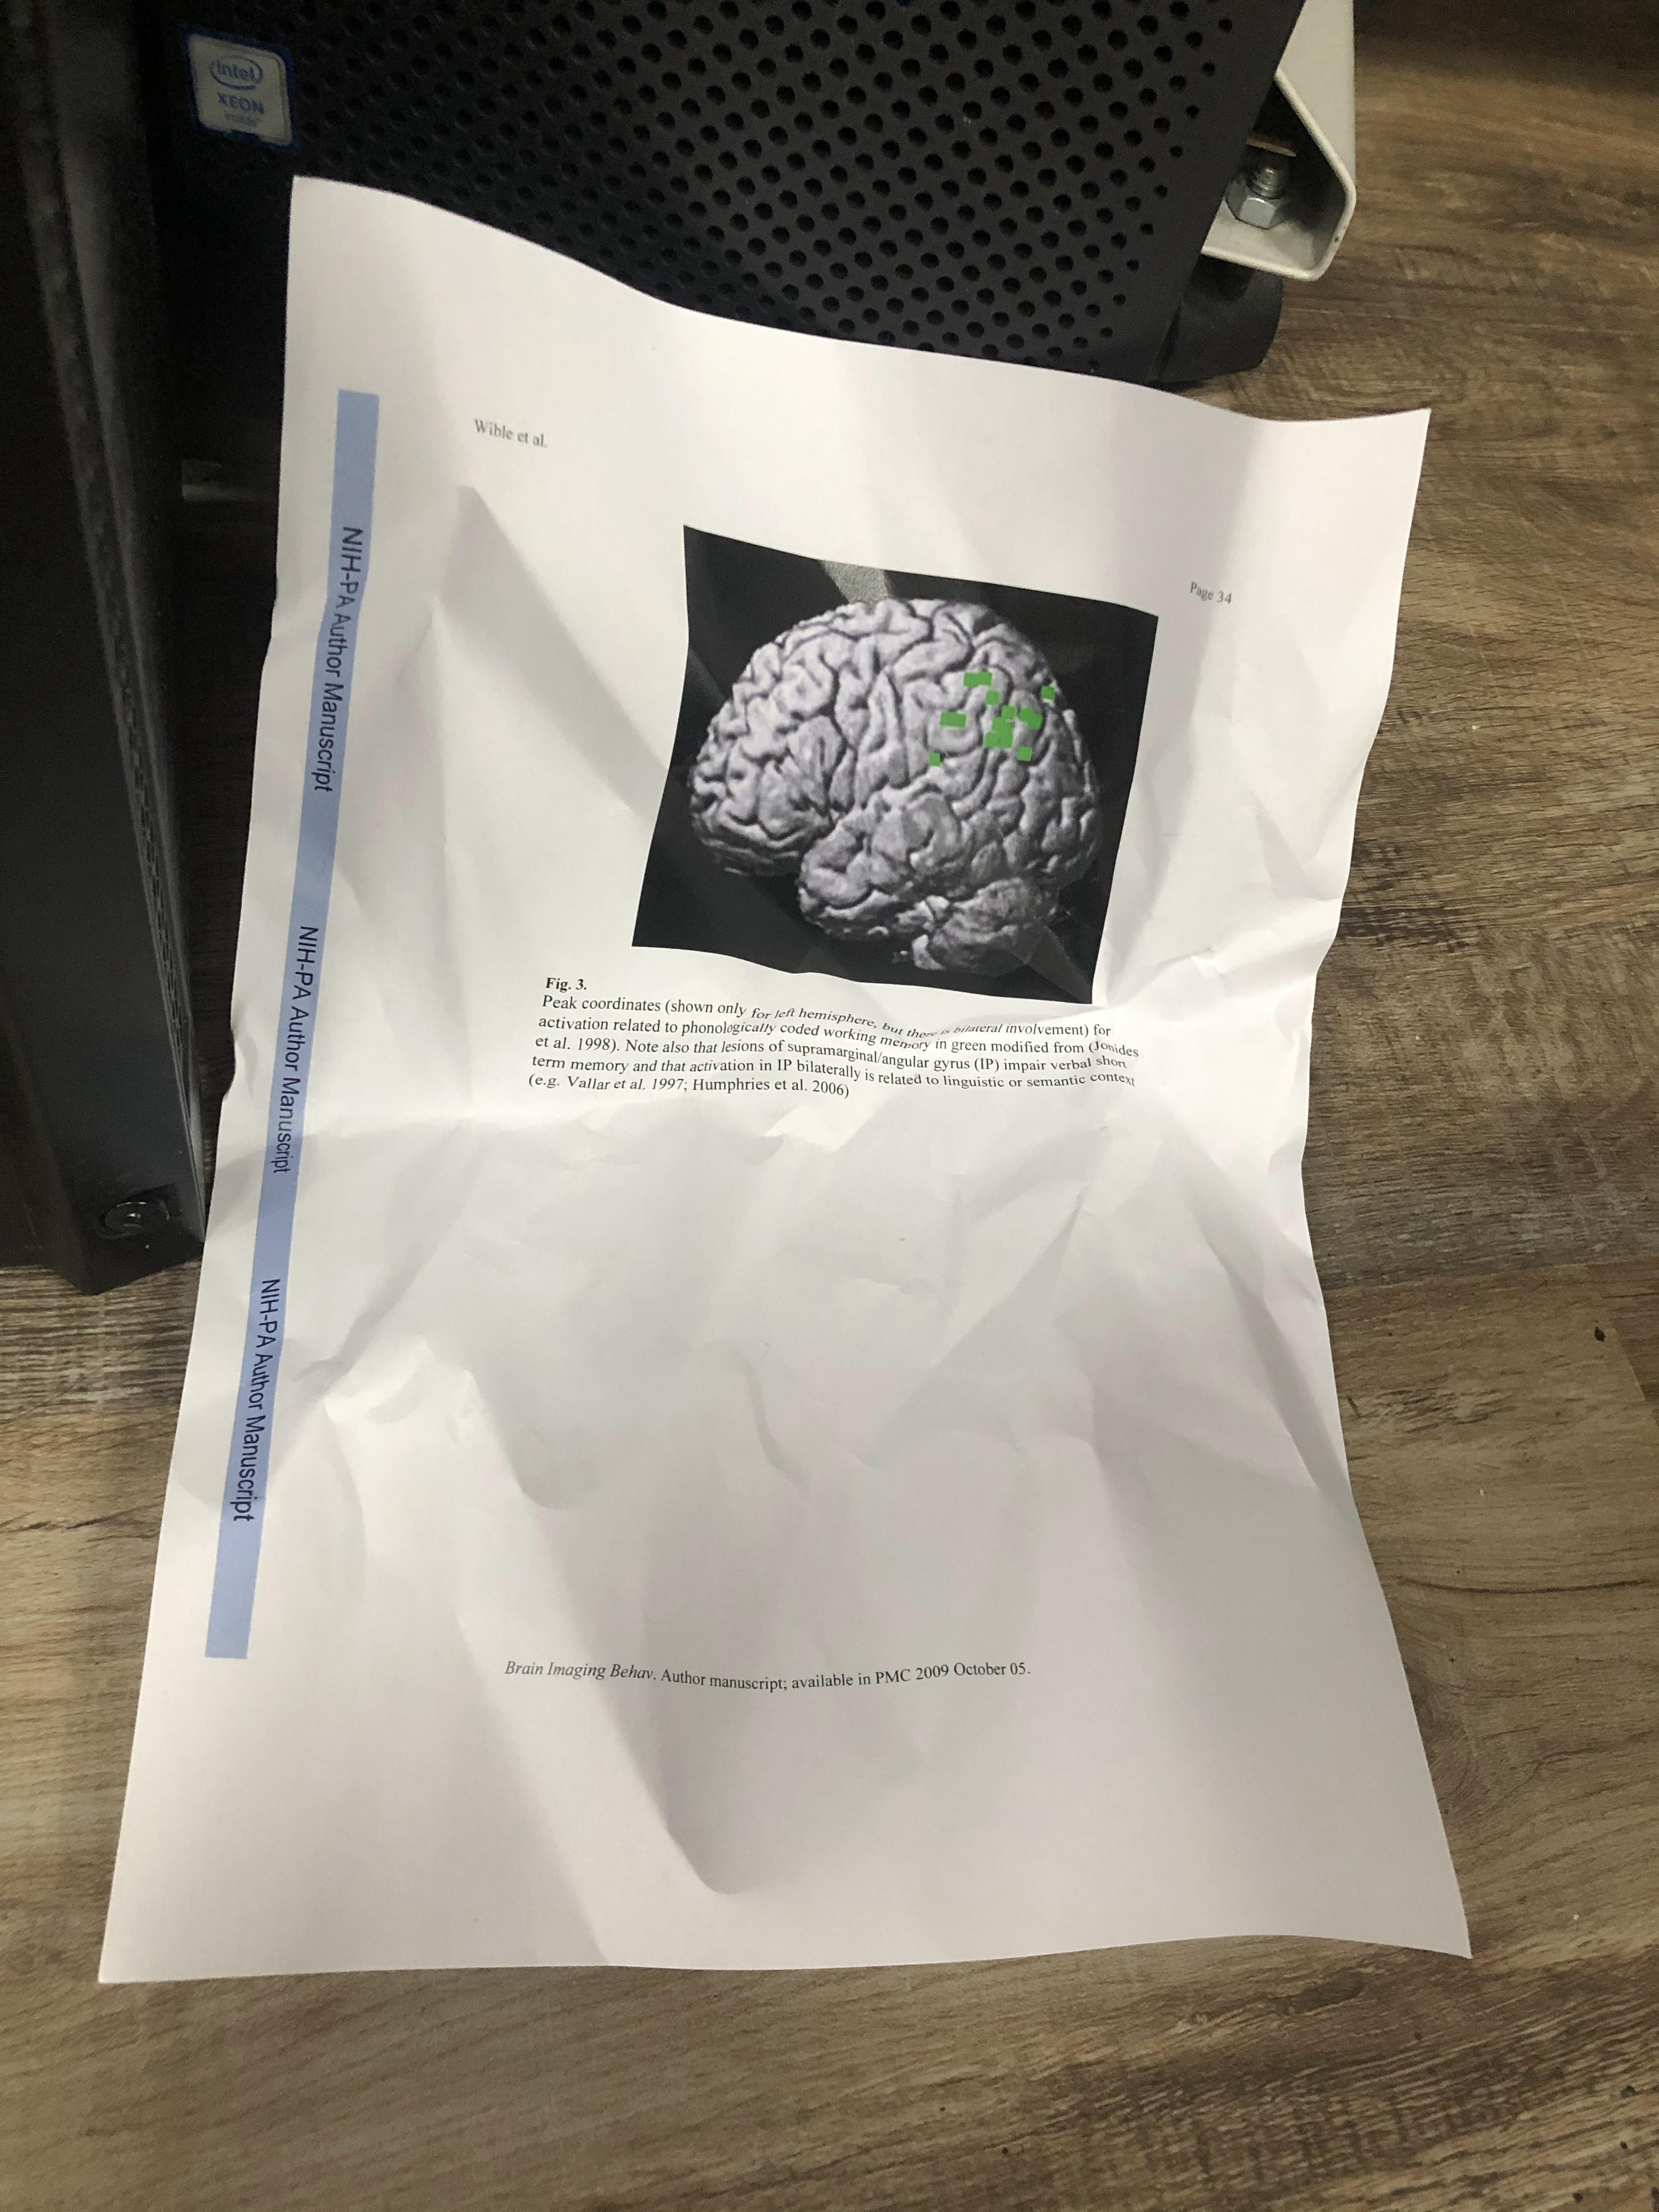paper: (78, 63, 1619, 2212)
